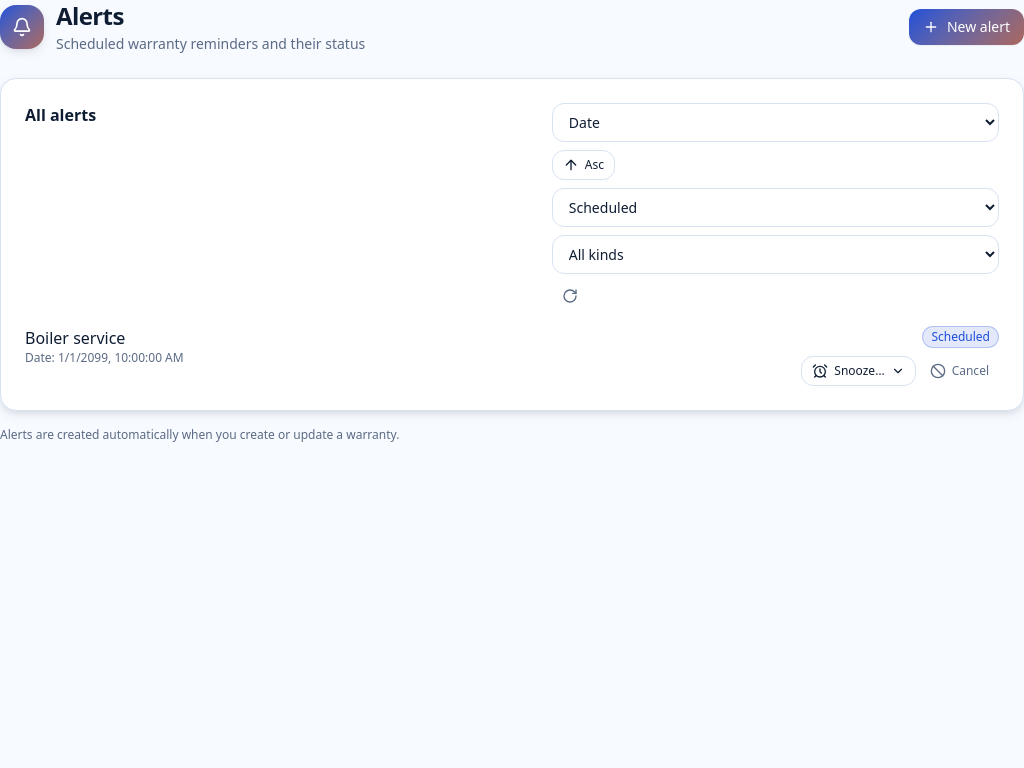
Test: <AlertsView /> › keeps snooze presets behind a menu until opened
Check: the text "Boiler service" is shown, box [25,327,125,349]
Check: the button "snooze 7d" is not shown
What coordinates should you click on to do the following:
click the button "Snooze…"
I would click on:
 (858, 371)
Its box is [801,356,916,386].
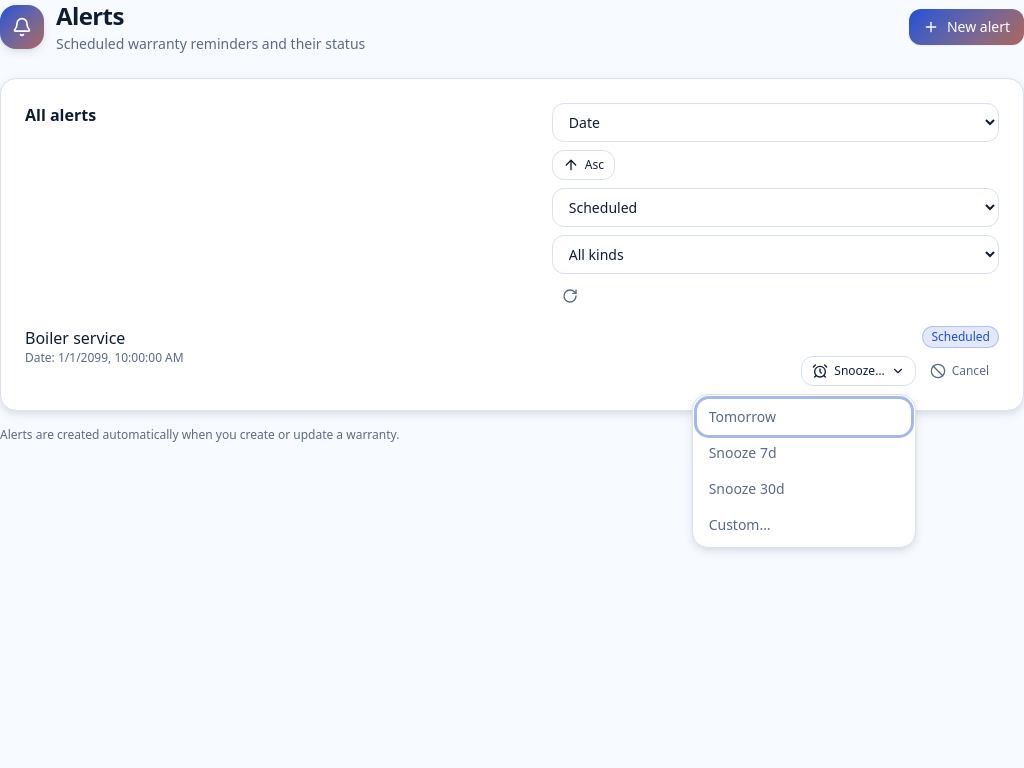
Check: the button "Tomorrow" is shown, box [697,399,911,435]
Check: the button "Snooze 30d" is shown, box [697,471,911,507]
Check: the button "Custom…" is shown
# The custom date picker is revealed inside the menu, not in the row.
What coordinates should you click on to do the following:
click the button "Custom…"
I would click on:
 (804, 525)
Its box is [697,507,911,543].
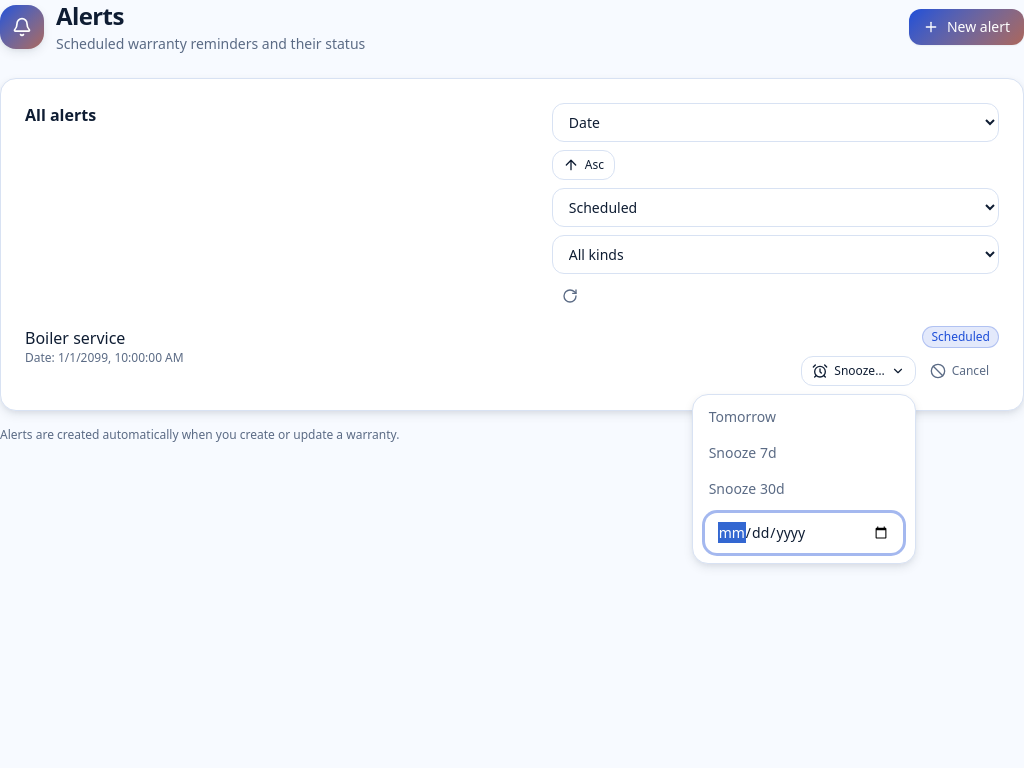
Check: the date field named "Snooze until date" is shown, box [705,513,903,553]
